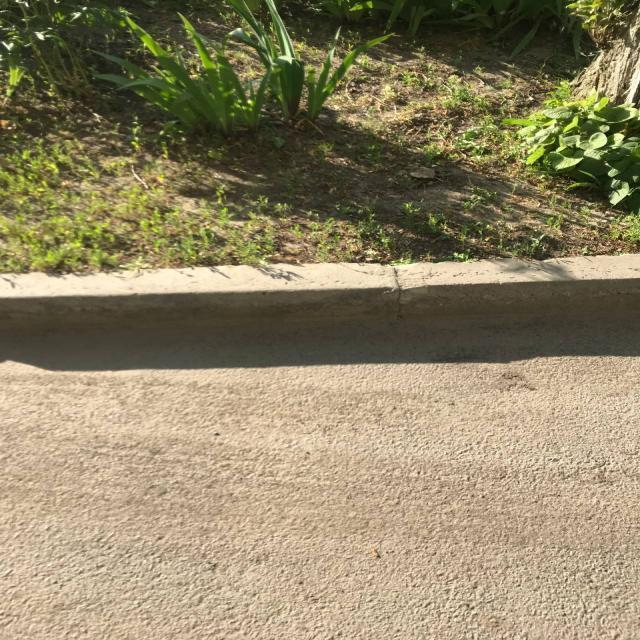bump: (0, 247, 639, 339)
